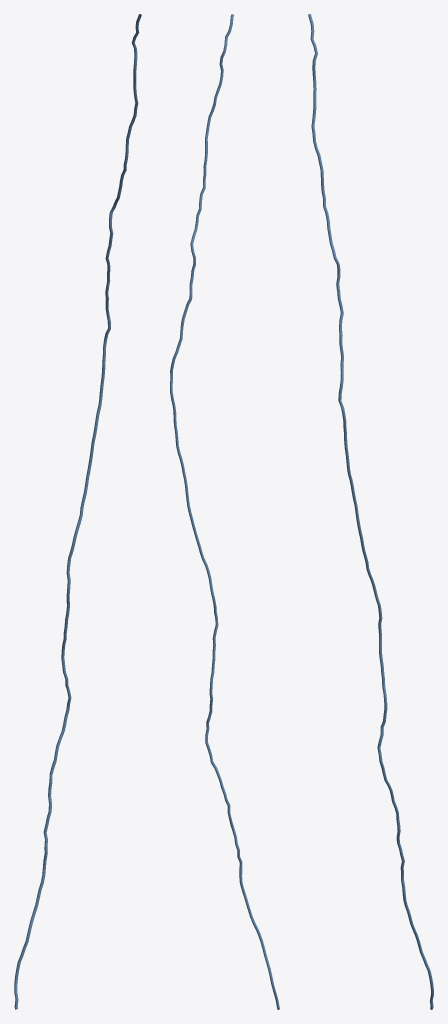
The model's file is sweep52.fbx.
The picture shows the model from 3 angles, left to right: view 1: azimuth 90°, elevation 25°; view 2: azimuth 210°, elevation 25°; view 3: azimuth 270°, elevation 25°; orthographic projection. The views are drawn at different scales.
Parts seen in each view (by area): view 1: sweep52; view 2: sweep52; view 3: sweep52.
Boxes of the visible parts, <box> form: sweep52: <box>14,14,141,1009</box>; sweep52: <box>170,14,279,1009</box>; sweep52: <box>308,14,433,1009</box>.
Size of the model in its own units: 0.6327 by 7.15 by 0.8235.
